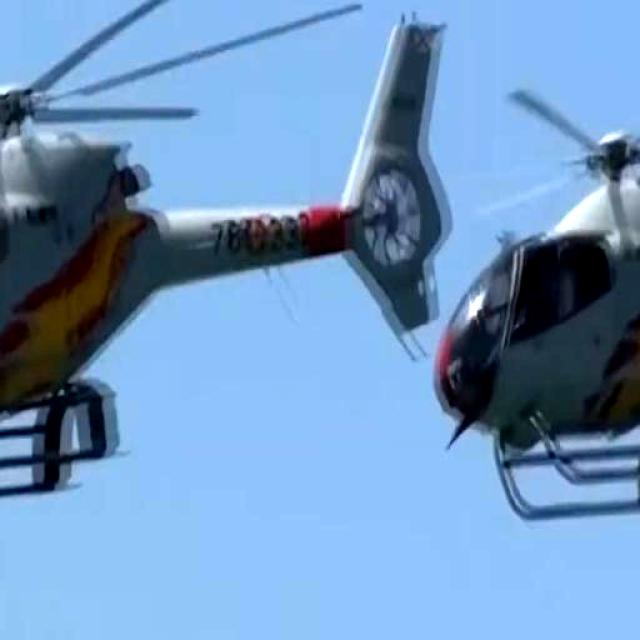drone: (0, 0, 421, 495), (456, 30, 640, 556)
